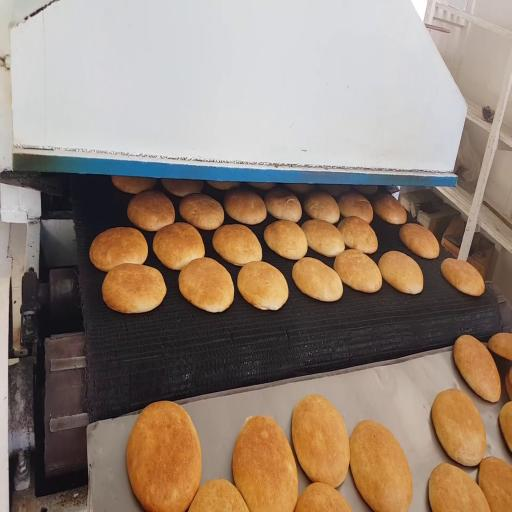bread: (126, 402, 201, 511), (232, 416, 298, 511), (350, 421, 413, 511), (292, 395, 349, 487), (432, 389, 486, 466), (454, 335, 501, 402), (102, 264, 166, 313), (179, 258, 234, 312), (429, 463, 490, 511), (90, 228, 147, 272), (153, 223, 205, 270), (238, 262, 288, 310), (292, 257, 342, 301), (334, 249, 382, 292), (213, 224, 262, 265), (127, 191, 175, 231), (379, 251, 423, 294), (189, 479, 248, 511), (478, 457, 511, 511), (264, 220, 307, 259), (441, 258, 485, 296), (179, 194, 224, 230), (295, 483, 351, 511), (302, 220, 344, 257), (224, 189, 266, 224), (338, 216, 377, 253), (400, 224, 439, 258), (265, 188, 301, 222), (303, 191, 339, 223), (338, 192, 373, 223), (374, 194, 406, 224), (112, 176, 156, 194), (161, 179, 203, 197), (489, 333, 511, 360), (499, 402, 511, 451), (320, 184, 350, 197), (207, 181, 239, 190), (286, 183, 314, 193), (355, 185, 378, 195), (249, 183, 275, 191), (505, 368, 511, 400)
